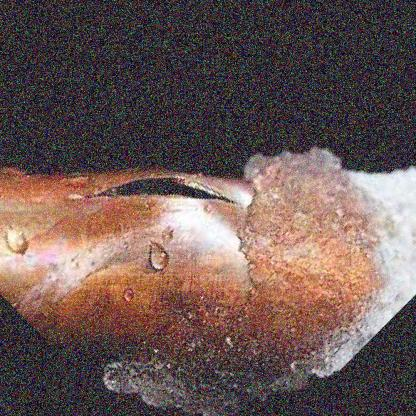burst: (79, 158, 248, 233)
